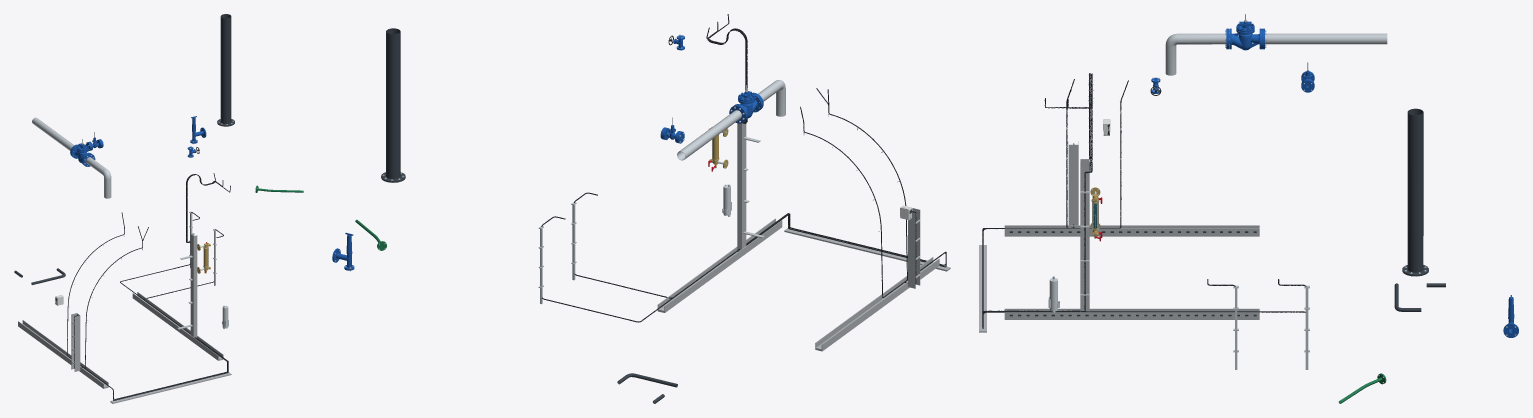
3 views of the same model, side by side, from view 1: azimuth 30°, elevation 25°; view 2: azimuth 150°, elevation 25°; view 3: azimuth 270°, elevation 25° (orthographic). The views are drawn at different scales.
Parts seen in each view (by area): view 1: cables / zinc, cables / black, bdv_vent / dark, steam_rise / steel, cables / steel, steam_delivery / steel; view 2: cables / zinc, cables / black, bdv_vent / dark, cables / steel, steam_delivery / steel, steam_rise / steel; view 3: cables / zinc, bdv_vent / dark, cables / black, steam_delivery / steel, steam_rise / steel, cables / steel, gpz CAD solid 0, cables / dark.
Boxes of the visible parts, x1,y1,x2,y2 form: cables / zinc: (18, 233, 231, 403); cables / black: (67, 173, 230, 400); bdv_vent / dark: (217, 14, 234, 126); steam_rise / steel: (86, 157, 111, 198); cables / steel: (68, 175, 216, 364); steam_delivery / steel: (32, 117, 74, 150); cables / zinc: (657, 121, 950, 351); cables / black: (541, 14, 946, 322); bdv_vent / dark: (381, 28, 405, 182); cables / steel: (538, 30, 920, 304); steam_delivery / steel: (677, 110, 741, 160); steam_rise / steel: (758, 80, 785, 116); cables / zinc: (979, 141, 1259, 332); bdv_vent / dark: (1402, 108, 1428, 276); cables / black: (982, 73, 1306, 328); steam_delivery / steel: (1265, 33, 1387, 44); steam_rise / steel: (1165, 33, 1226, 75); cables / steel: (1066, 74, 1309, 369); gpz CAD solid 0: (1229, 14, 1261, 50); cables / dark: (1009, 231, 1256, 316).
Bounding box in the file's own units: 5.95 × 3.78 × 5.72.
